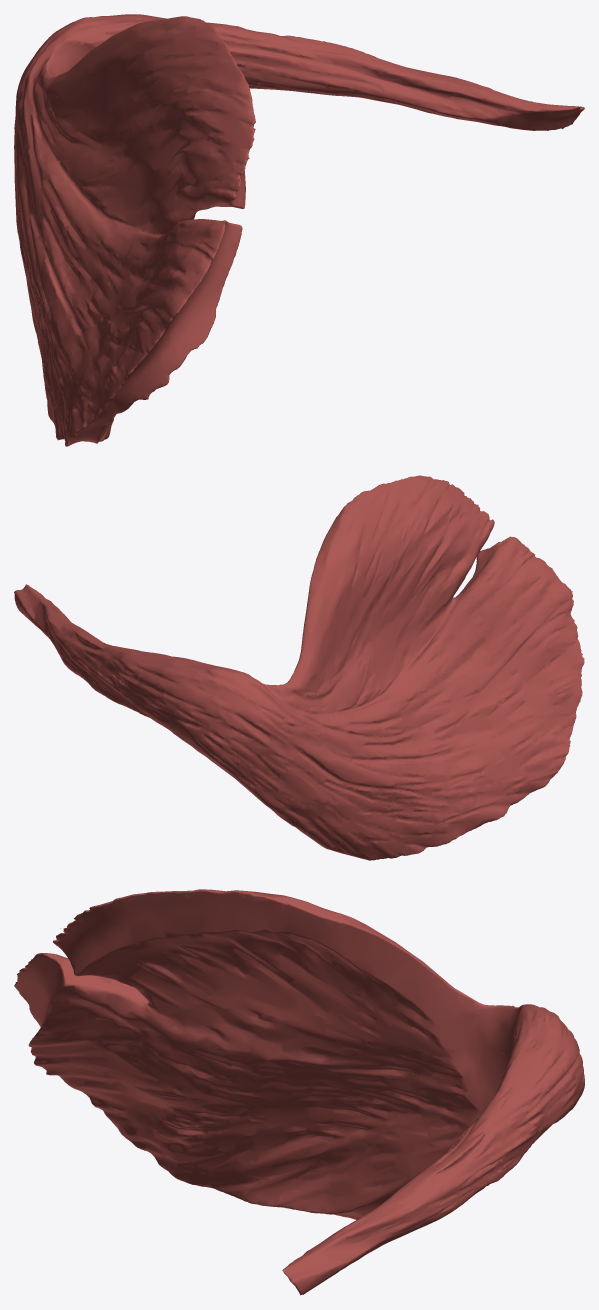
Rendered from FMA22325.glb.
The picture shows the model from 3 angles, top to bottom: view 1: azimuth 30°, elevation 25°; view 2: azimuth 150°, elevation 25°; view 3: azimuth 270°, elevation 25°; orthographic projection. The views are drawn at different scales.
Visible parts, largest first — view 1: FMA22325; view 2: FMA22325; view 3: FMA22325.
Boxes of the visible parts, x1,y1,x2,y2 form: FMA22325: (14,14,584,446); FMA22325: (14,475,584,860); FMA22325: (14,889,584,1295).
Bounding box in the file's own units: 0.0947 × 0.0579 × 0.079.
